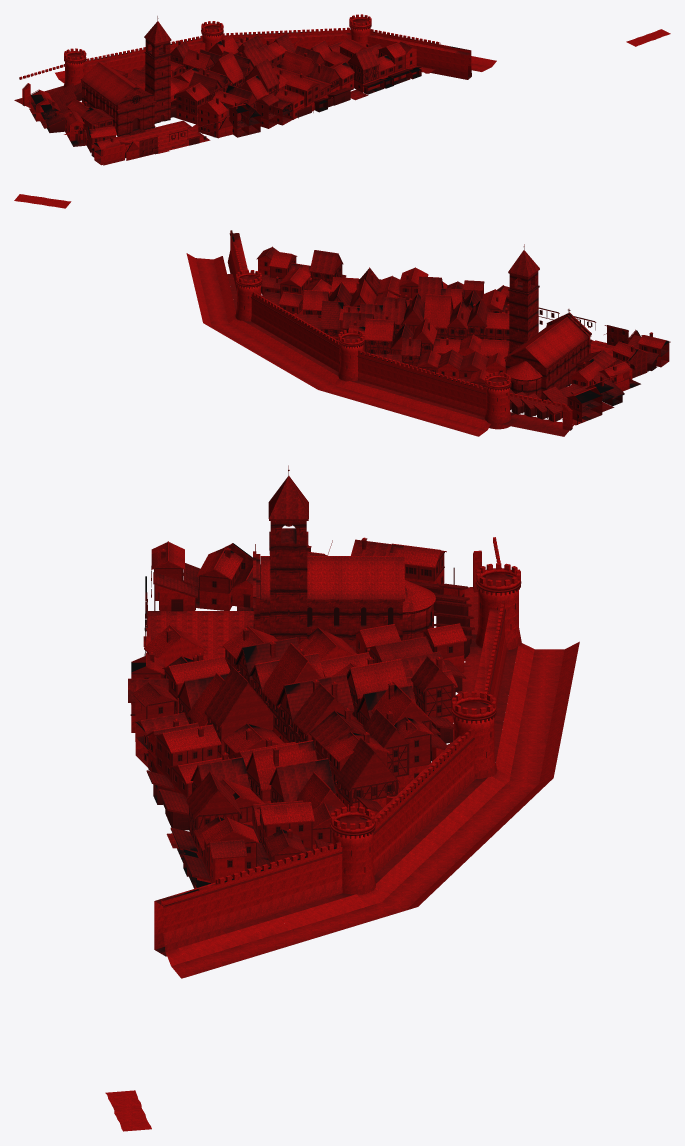
Rendered from nord.gltf.
3 renders of one model, top to bottom at view 1: azimuth 30°, elevation 25°; view 2: azimuth 150°, elevation 25°; view 3: azimuth 270°, elevation 25°, orthographic. The views are drawn at different scales.
Parts seen in each view (by area): view 1: Zona_nord_0_1, Zona_nord_-1_1, Zona_nord_1_1, Zona_nord_2_1, Zona_nord_-1_2, Zona_nord_3_1, Zona_nord_2_2, Zona_nord_1_2, Zona_nord_0_2, Zona_nord_4_1, Zona_nord_-2_2, Zona_nord_3_2 (+5 smaller); view 2: Zona_nord_-1_2, Zona_nord_0_2, Zona_nord_0_3, Zona_nord_-1_3, Zona_nord_1_3, Zona_nord_1_2, Zona_nord_3_2, Zona_nord_2_2, Zona_nord_2_3, Zona_nord_2_1, Zona_nord_-2_2, Zona_nord_1_1 (+7 smaller); view 3: Zona_nord_3_2, Zona_nord_1_2, Zona_nord_2_2, Zona_nord_1_1, Zona_nord_1_3, Zona_nord_0_2, Zona_nord_-1_2, Zona_nord_4_1, Zona_nord_0_3, Zona_nord_-1_1, Zona_nord_2_1, Zona_nord_3_1 (+6 smaller).
Part boxes in pixels (box(x1,y1,x2,y2)): Zona_nord_0_1: box(156, 30, 260, 145); Zona_nord_-1_1: box(92, 33, 188, 160); Zona_nord_1_1: box(225, 58, 316, 131); Zona_nord_2_1: box(291, 46, 377, 112); Zona_nord_-1_2: box(53, 29, 155, 125); Zona_nord_3_1: box(352, 36, 431, 91); Zona_nord_2_2: box(257, 29, 351, 71); Zona_nord_1_2: box(185, 35, 279, 87); Zona_nord_0_2: box(122, 16, 220, 117); Zona_nord_4_1: box(423, 39, 496, 79); Zona_nord_-2_2: box(32, 92, 93, 140); Zona_nord_3_2: box(323, 14, 409, 50); Zona_nord_-1_2: box(496, 259, 605, 403); Zona_nord_0_2: box(416, 244, 531, 378); Zona_nord_0_3: box(377, 337, 487, 428); Zona_nord_-1_3: box(450, 372, 562, 436); Zona_nord_1_3: box(305, 329, 411, 406); Zona_nord_1_2: box(342, 293, 455, 362); Zona_nord_3_2: box(199, 263, 302, 344); Zona_nord_2_2: box(261, 277, 379, 348); Zona_nord_2_3: box(247, 320, 330, 383); Zona_nord_2_1: box(300, 250, 408, 303); Zona_nord_-2_2: box(564, 358, 634, 420); Zona_nord_1_1: box(386, 267, 484, 313); Zona_nord_3_2: box(272, 802, 434, 931); Zona_nord_1_2: box(268, 643, 432, 793); Zona_nord_2_2: box(269, 728, 432, 864); Zona_nord_1_1: box(128, 662, 282, 775); Zona_nord_1_3: box(423, 662, 562, 803); Zona_nord_0_2: box(271, 465, 432, 705); Zona_nord_-1_2: box(281, 490, 431, 653); Zona_nord_4_1: box(154, 870, 284, 978); Zona_nord_0_3: box(424, 618, 574, 739); Zona_nord_-1_1: box(143, 489, 278, 659); Zona_nord_2_1: box(146, 734, 284, 857); Zona_nord_3_1: box(175, 784, 284, 927).
Bounding box in the file's own units: 219 × 39.45 × 79.18.
Materials: 33 (25 with a texture image).
